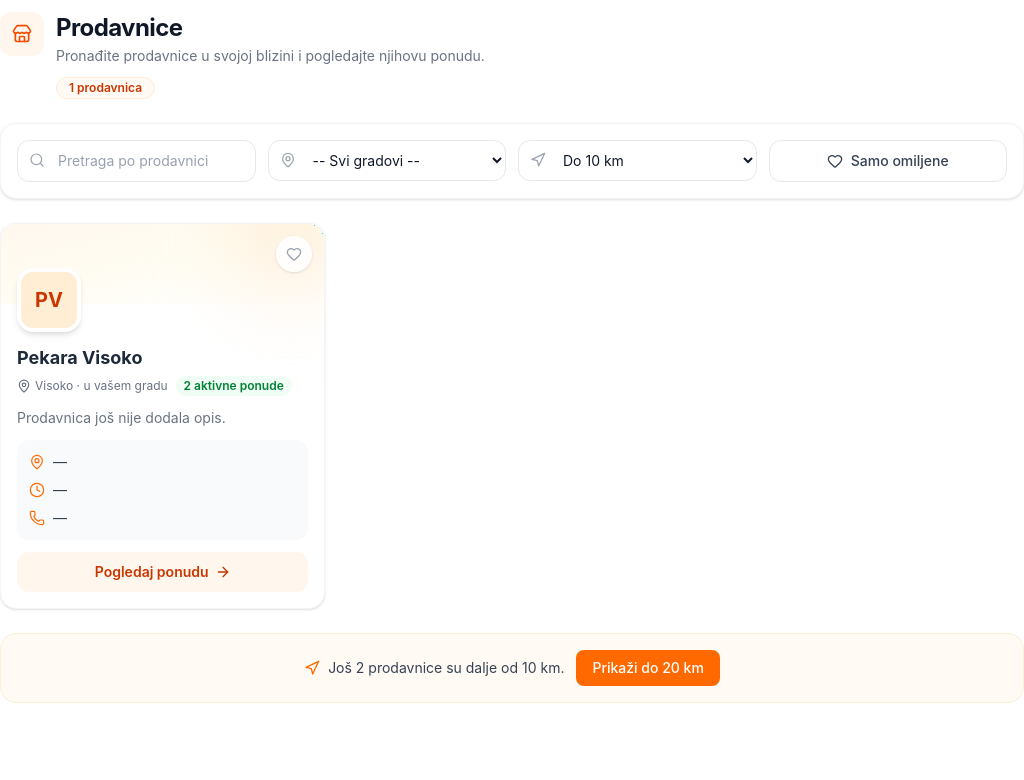
StoresPage › distance › explains an empty result with the radius and offers the next step
The width and height of the screenshot is (1024, 780).
Check: the heading "Pekara Visoko" is shown, box [17,347,142,368]
Select "Do 5 km" in the dropdown named "Udaljenost" at point(637, 160), box [518,140,756,181]
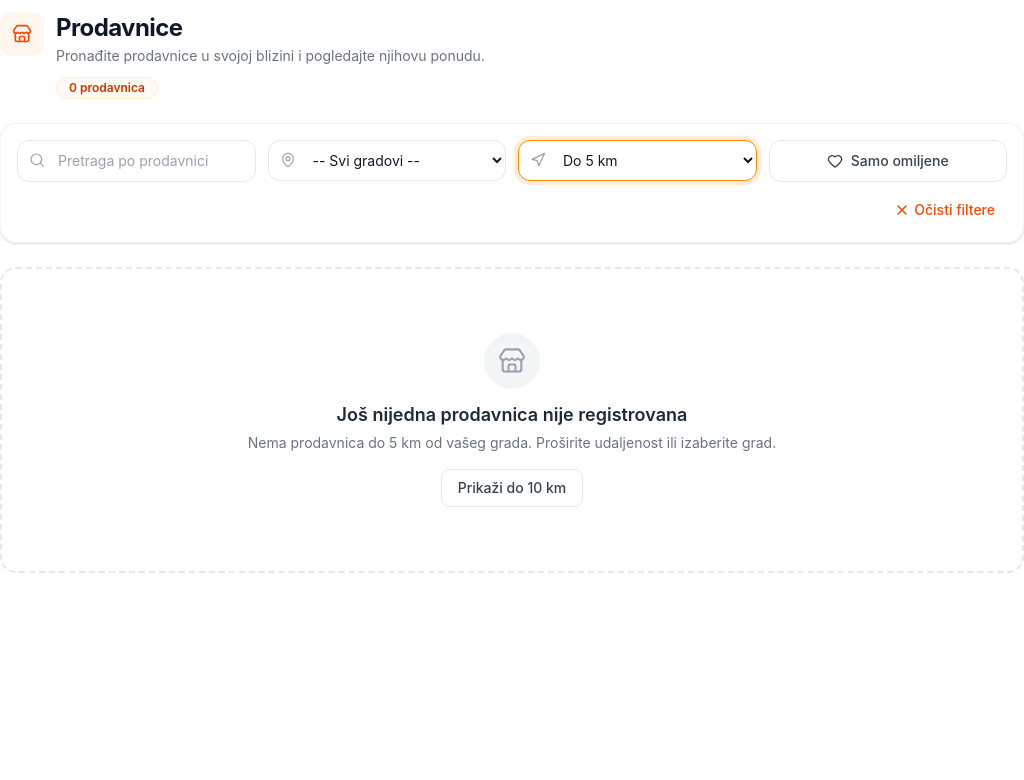
Click the button "Prikaži do 10 km" at point(512, 488), box [441,469,583,507]
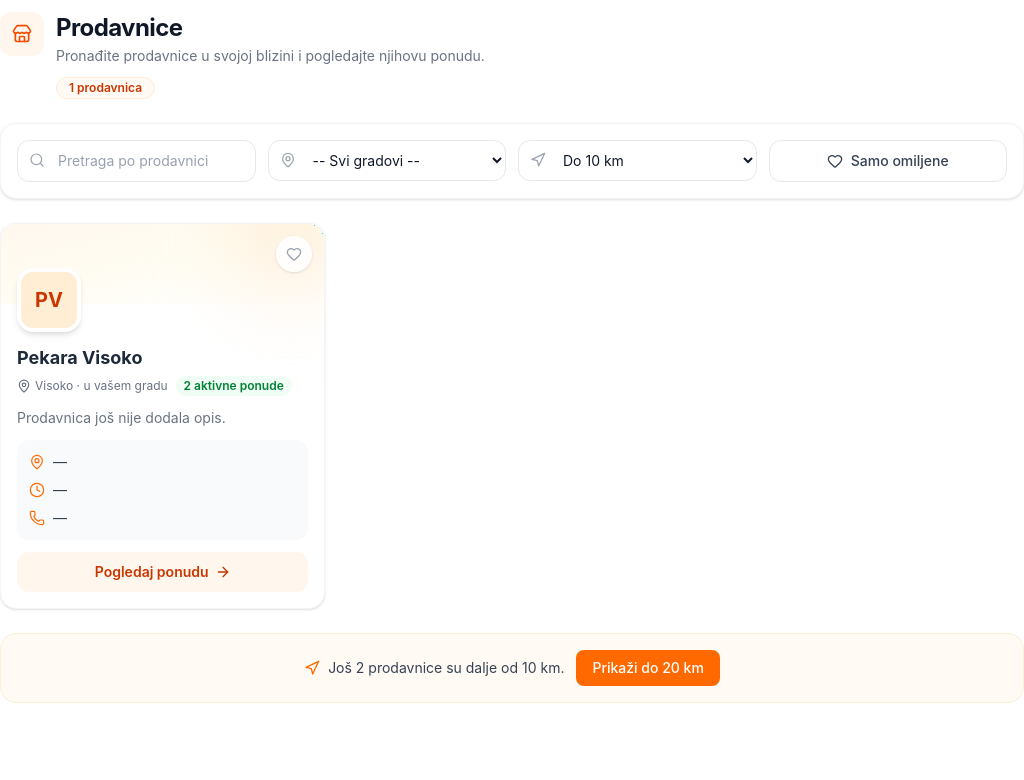
Check: the heading "Pekara Visoko" is shown, box [17,347,142,368]
